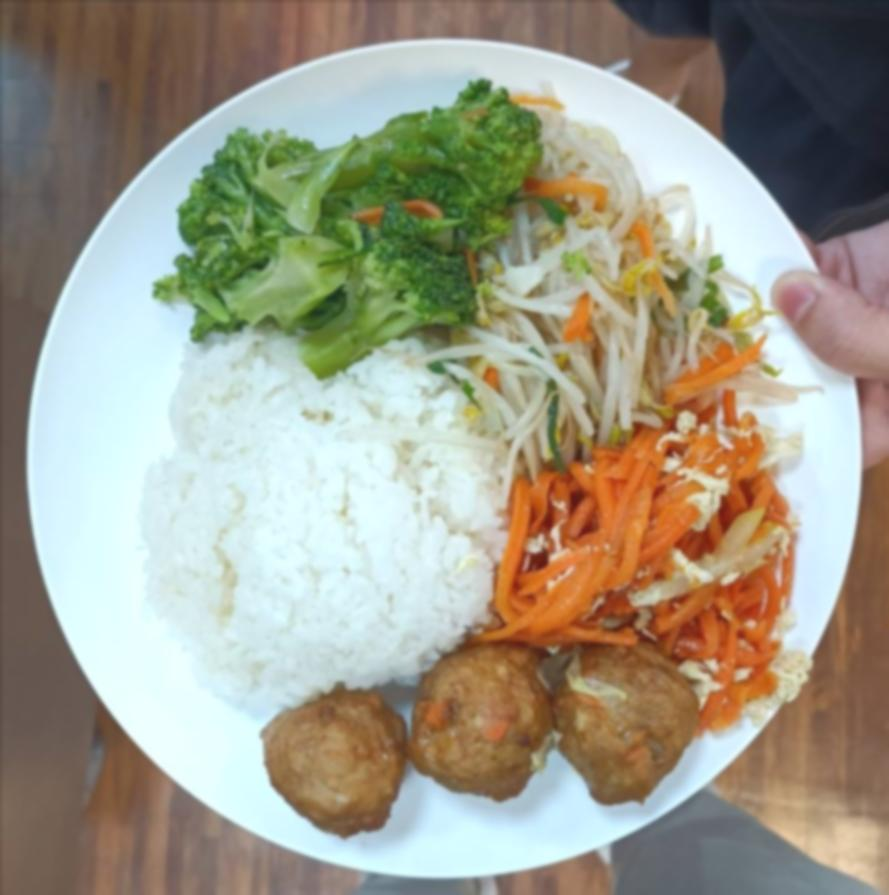big fried chicken leg: (15, 25, 875, 879)
big herbal chicken leg: (135, 318, 478, 698)
braised fish fillet: (166, 96, 526, 340), (485, 128, 719, 416), (499, 418, 772, 646)
braised pork: (261, 630, 690, 840)
